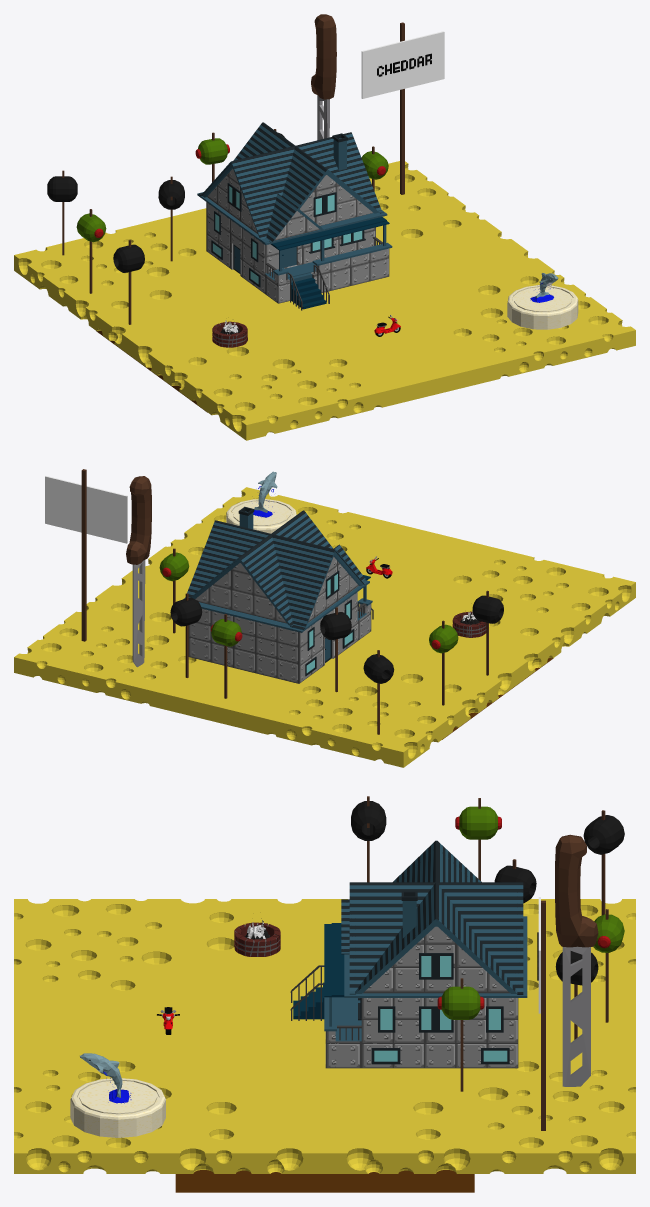
3 renders of one model, top to bottom at view 1: azimuth 30°, elevation 25°; view 2: azimuth 150°, elevation 25°; view 3: azimuth 270°, elevation 25°, orthographic. The views are drawn at different scales.
Parts seen in each view (by area): view 1: Cube.022, Cube.078, Cube.023, Cylinder.016, Cube.024, Sphere.017, Sphere.016, Sphere.018, OBJRANDOM_CAMPFIRE, Sphere.020, Sphere.022, Sphere.019; view 2: Cube.022, Cube.078, Cube.023, Cube.024, Cylinder.016, Sphere.021, Sphere.022, Sphere.020, Sphere.017, Sphere.016, Sphere.018, Sphere.019 (+2 smaller); view 3: Cube.022, Cube.078, Cube.024, UNDERGROUND_ART_PIECE_VAN_GOGH, Cylinder.016, Sphere.019, Sphere.016, Cube.023, OBJRANDOM_CAMPFIRE, Sphere.018, Sphere.017, Sphere.022 (+3 smaller).
Boxes of the visible parts, x1,y1,x2,y2 form: Cube.022: [14, 161, 635, 440]; Cube.078: [197, 122, 392, 310]; Cube.023: [361, 22, 444, 194]; Cylinder.016: [507, 285, 578, 329]; Cube.024: [311, 14, 336, 140]; Sphere.017: [113, 240, 144, 324]; Sphere.016: [47, 170, 77, 255]; Sphere.018: [76, 209, 106, 293]; OBJRANDOM_CAMPFIRE: [212, 320, 247, 347]; Sphere.020: [158, 176, 184, 261]; Sphere.022: [195, 132, 229, 182]; Sphere.019: [361, 146, 388, 190]; Cube.022: [14, 487, 635, 767]; Cube.078: [183, 506, 373, 683]; Cube.023: [45, 469, 127, 641]; Cube.024: [126, 476, 151, 667]; Cylinder.016: [226, 499, 296, 533]; Sphere.021: [170, 593, 202, 677]; Sphere.022: [210, 614, 242, 698]; Sphere.020: [320, 607, 351, 692]; Sphere.017: [472, 590, 503, 675]; Sphere.016: [363, 650, 394, 734]; Sphere.018: [429, 620, 458, 705]; Sphere.019: [159, 548, 189, 633]; Cube.022: [14, 899, 635, 1173]; Cube.078: [290, 840, 527, 1068]; Cube.024: [555, 834, 598, 1086]; UNDERGROUND_ART_PIECE_VAN_GOGH: [175, 1170, 474, 1192]; Cylinder.016: [70, 1078, 165, 1137]; Sphere.019: [437, 978, 484, 1091]; Sphere.016: [583, 810, 624, 915]; Cube.023: [537, 897, 545, 1130]; OBJRANDOM_CAMPFIRE: [234, 918, 280, 956]; Sphere.018: [455, 798, 501, 880]; Sphere.017: [351, 796, 386, 882]; Sphere.022: [593, 909, 624, 1022].
Size of the model in its own units: 3917 by 2132 by 4000.
35 materials, 6 textured.
